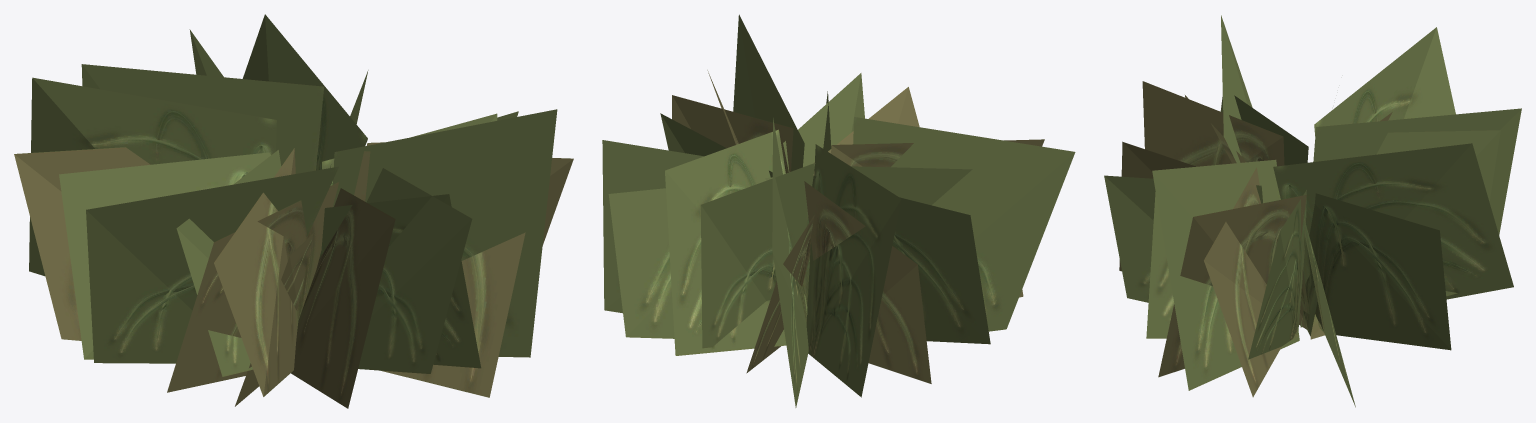
The model's file is bg_atm_foliage_fieldgrass01_sm_ksy.FBX.
The picture shows the model from 3 angles, left to right: view 1: azimuth 30°, elevation 25°; view 2: azimuth 150°, elevation 25°; view 3: azimuth 270°, elevation 25°; orthographic projection. The views are drawn at different scales.
Visible parts, largest first — view 1: bg_atm_foliage_fieldgrass01_sm_ksy; view 2: bg_atm_foliage_fieldgrass01_sm_ksy; view 3: bg_atm_foliage_fieldgrass01_sm_ksy.
Boxes of the visible parts, x1,y1,x2,y2 form: bg_atm_foliage_fieldgrass01_sm_ksy: (14, 14, 573, 408); bg_atm_foliage_fieldgrass01_sm_ksy: (602, 14, 1075, 407); bg_atm_foliage_fieldgrass01_sm_ksy: (1104, 15, 1521, 407).
Size of the model in its own units: 230 by 123 by 200.
